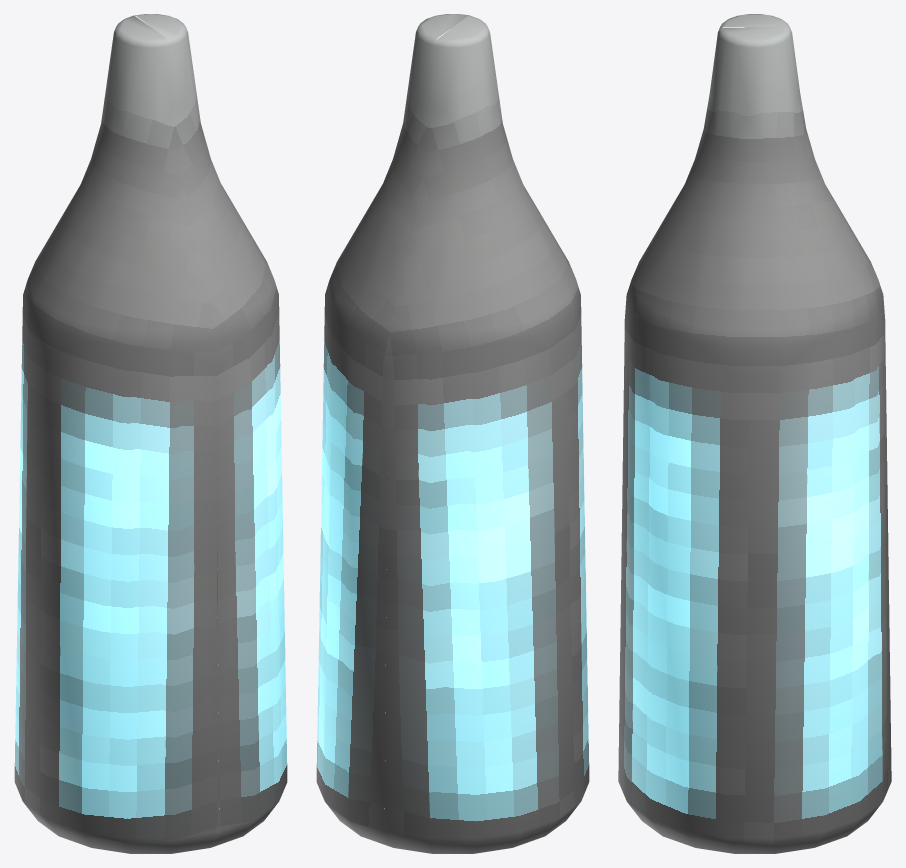
File: bar_bottle_3_b.glb
The picture shows the model from 3 angles, left to right: view 1: azimuth 30°, elevation 25°; view 2: azimuth 150°, elevation 25°; view 3: azimuth 270°, elevation 25°; orthographic projection.
Parts seen in each view (by area): view 1: bar_bottle_3; view 2: bar_bottle_3; view 3: bar_bottle_3.
Boxes of the visible parts, x1,y1,x2,y2 form: bar_bottle_3: [14, 14, 287, 853]; bar_bottle_3: [316, 14, 589, 853]; bar_bottle_3: [618, 14, 891, 853].
Bounding box in the file's own units: 0.095 × 0.3033 × 0.0965.
Materials: 1 (1 with a texture image).
